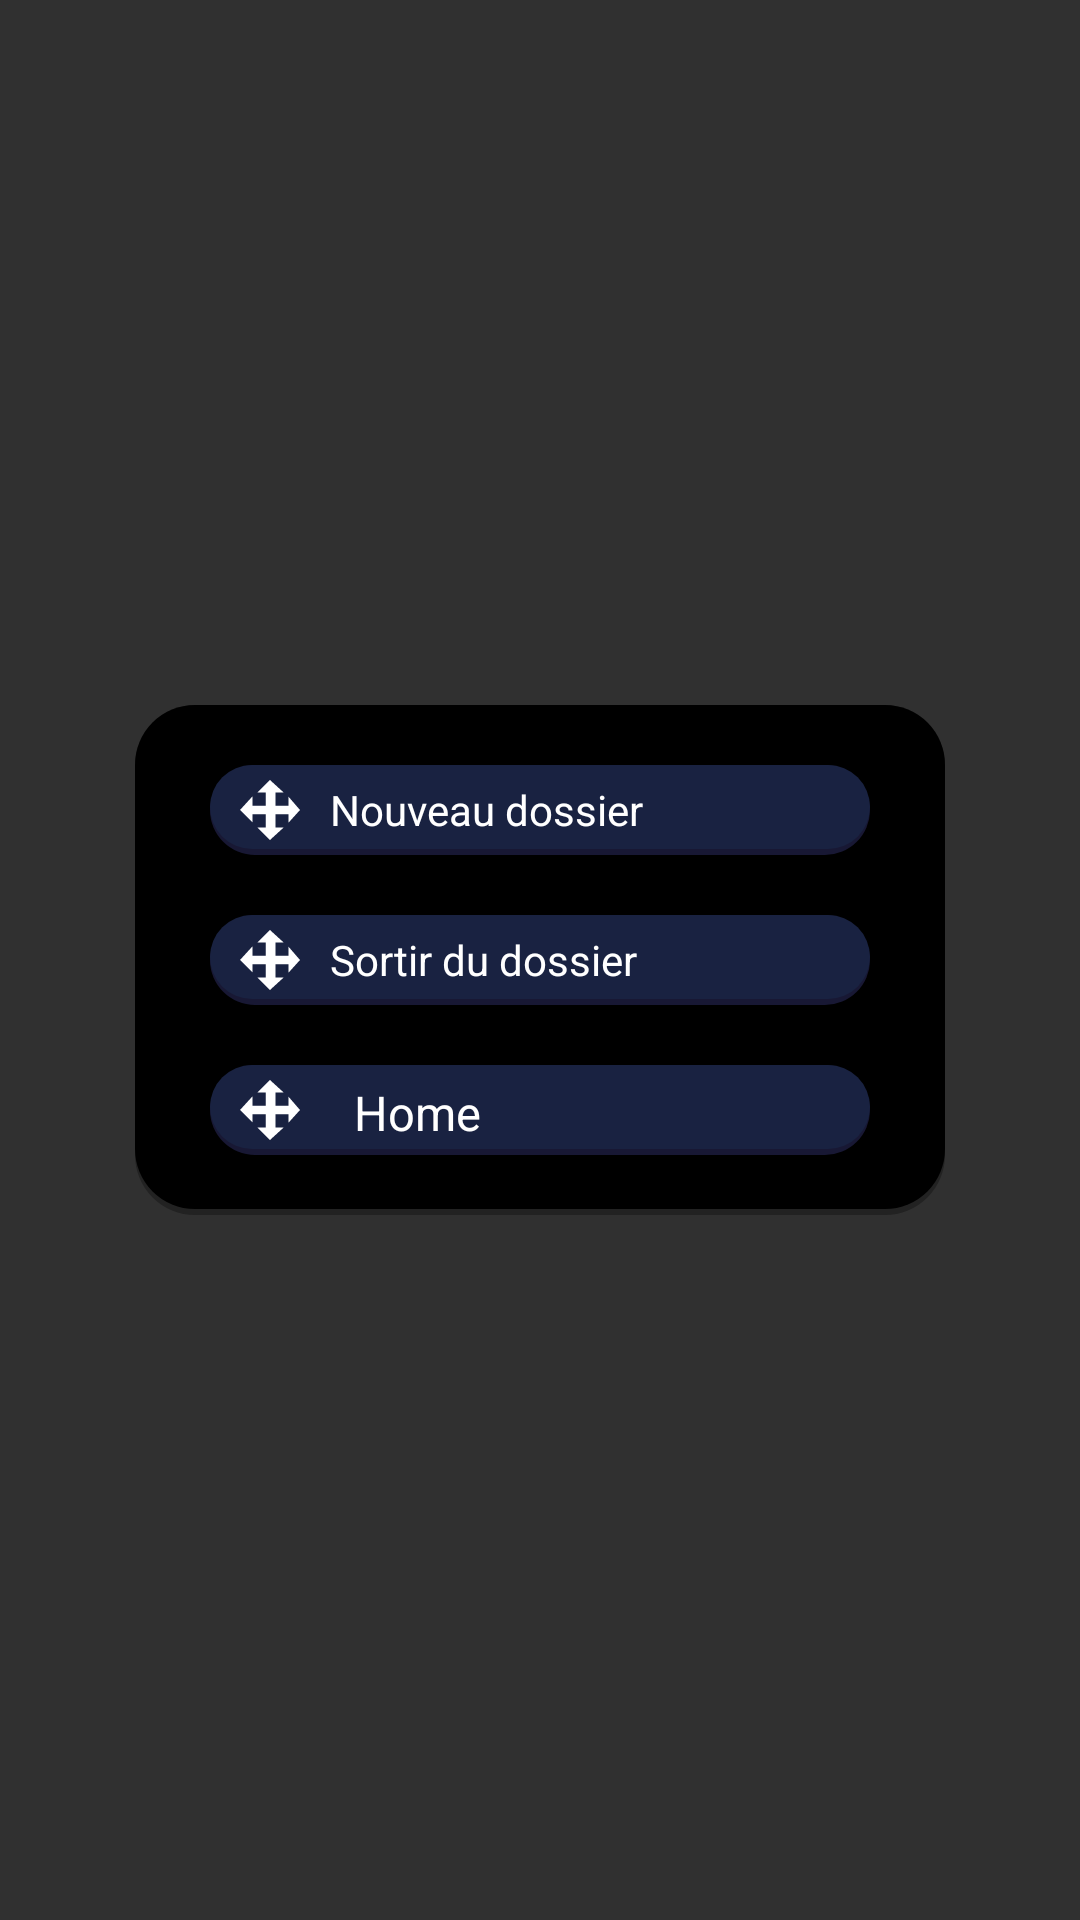

Screen size 1080 × 1920. Icon name, then its center in pixels as (x,y):
move: (270,810), (270,960), (270,1110)
